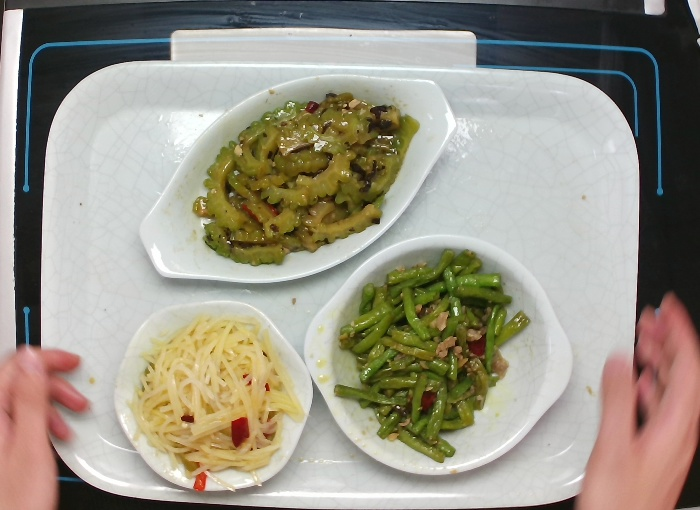JYsf-Shuang_Er_Wan: (296, 232, 580, 481)
JYsf-Yu_Pan: (137, 66, 462, 293)
WCQzf-Hua_Duo_Wan: (110, 296, 316, 499)
